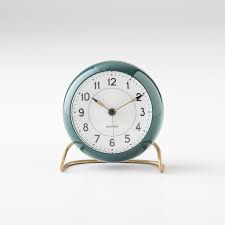alarm_clock: (55, 60, 170, 172)
